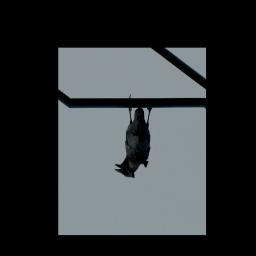Crow: (113, 90, 157, 187)
